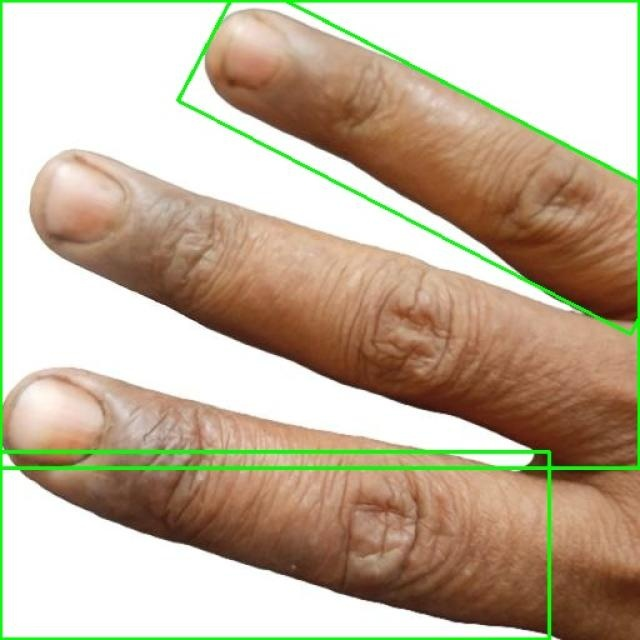Eczema: (0, 0, 639, 468), (178, 0, 640, 334), (0, 451, 549, 639)
